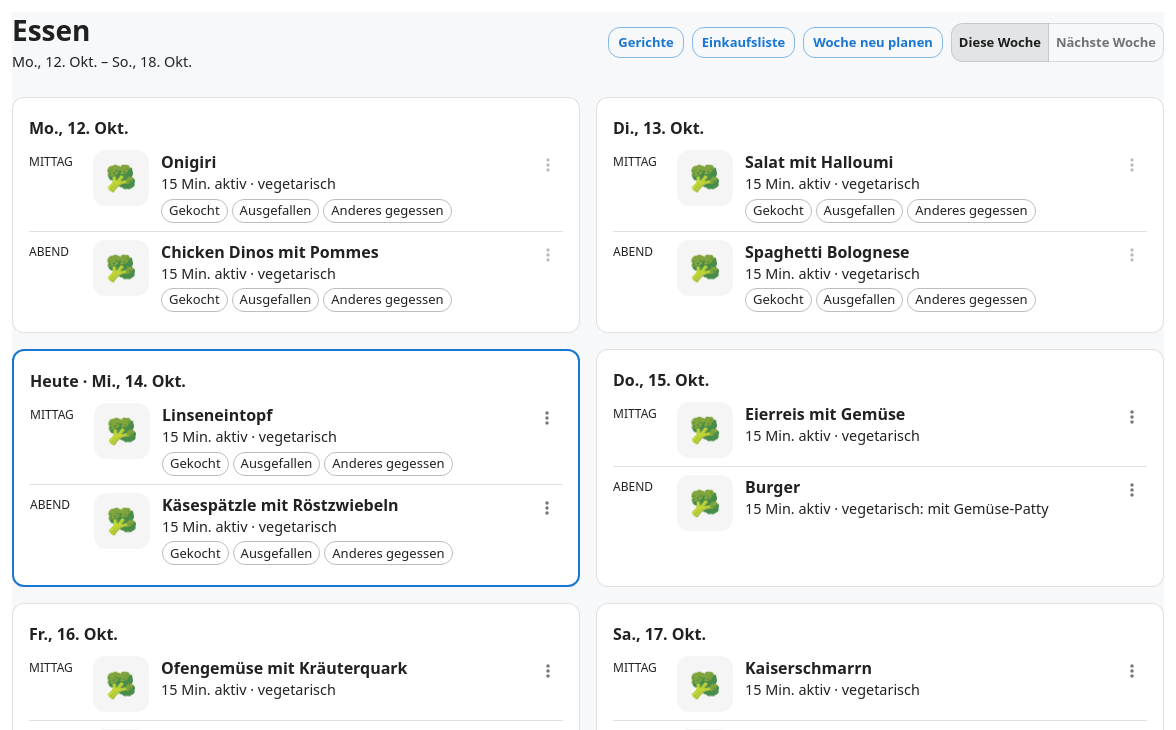
Test case: MealPlanPage (FOOD-009) › disables actions for past meals and shows replace errors
The width and height of the screenshot is (1176, 730).
Expected: the button named "Aktionen: Mo., 12. Okt. Mittag" is disabled, [533,150,563,180]
Click the button named "Aktionen: Mi., 14. Okt. Mittag". click: (547, 418)
box: [532,403,562,433]
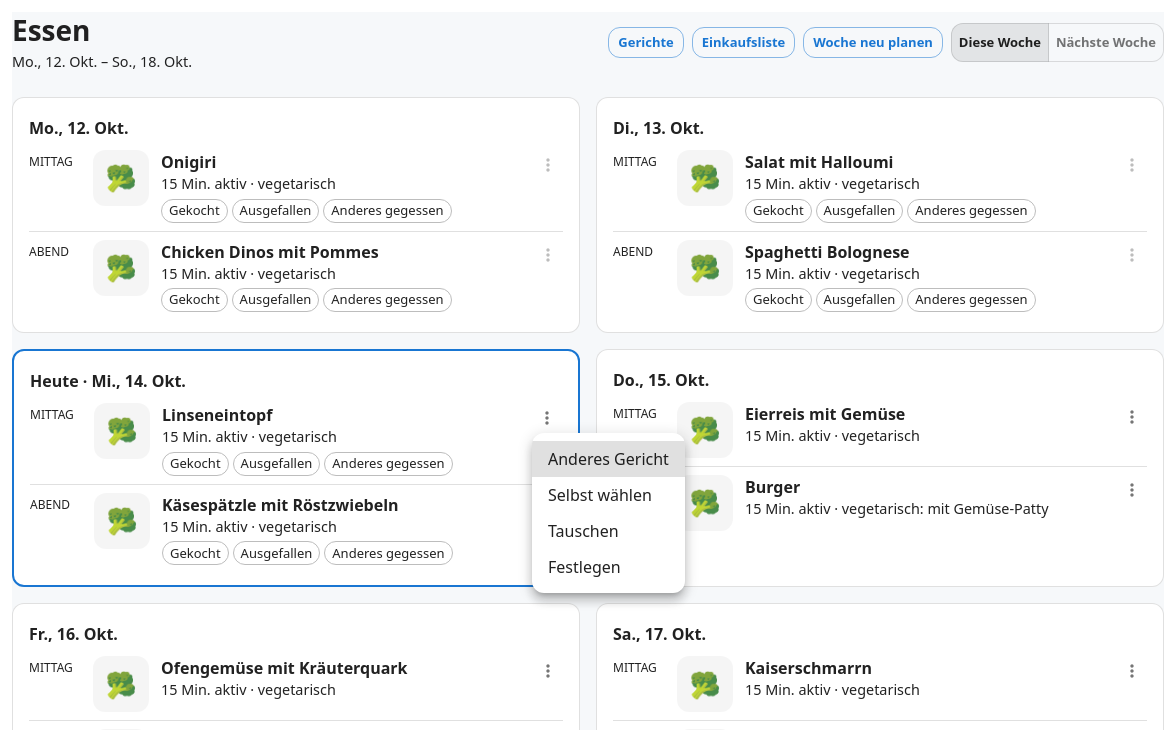
Click the menu item "Anderes Gericht". click: (608, 459)
box: [532,441,685,477]
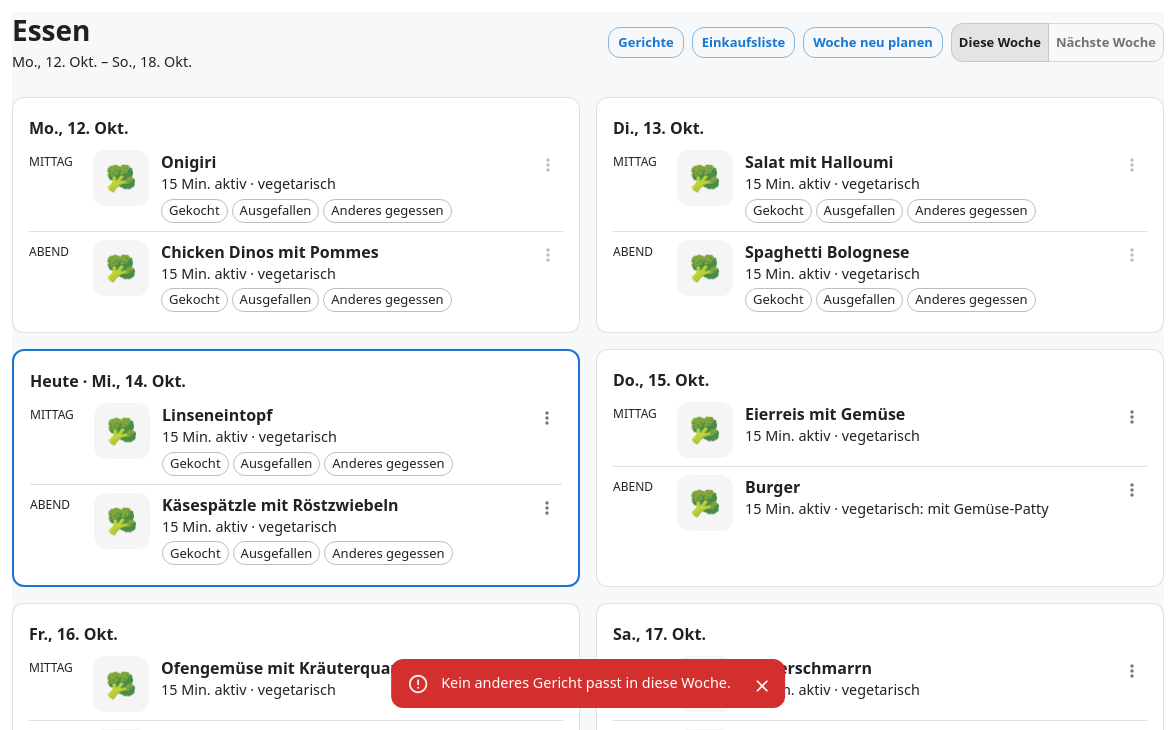
Result: the text "Kein anderes Gericht passt in diese Woche." is shown at [441,673,731,692]
